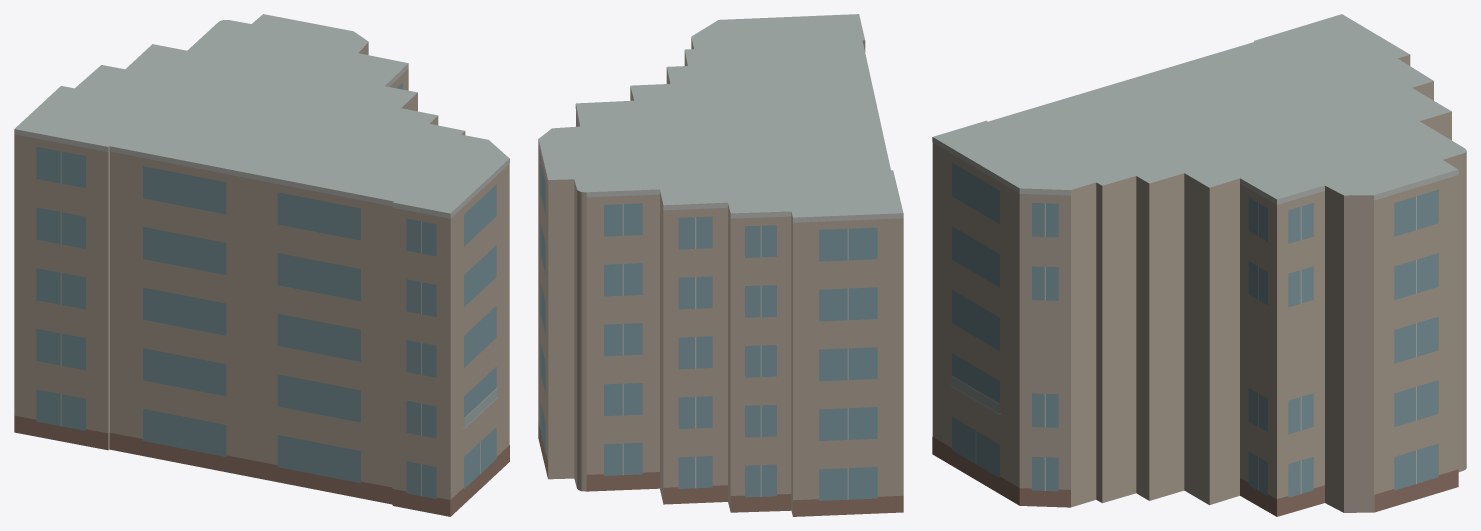
The model's file is survey-upis-32742058.glb.
The picture shows the model from 3 angles, left to right: view 1: azimuth 30°, elevation 25°; view 2: azimuth 150°, elevation 25°; view 3: azimuth 270°, elevation 25°; orthographic projection. The views are drawn at different scales.
Parts seen in each view (by area): view 1: survey-upis-32742058.tmp; view 2: survey-upis-32742058.tmp; view 3: survey-upis-32742058.tmp.
Boxes of the visible parts, left/top/right/bottom form: survey-upis-32742058.tmp: left=14, top=14, right=509, bottom=516; survey-upis-32742058.tmp: left=538, top=14, right=903, bottom=516; survey-upis-32742058.tmp: left=932, top=14, right=1466, bottom=516.
Bounding box in the file's own units: 17.8 × 14.2 × 21.65.
